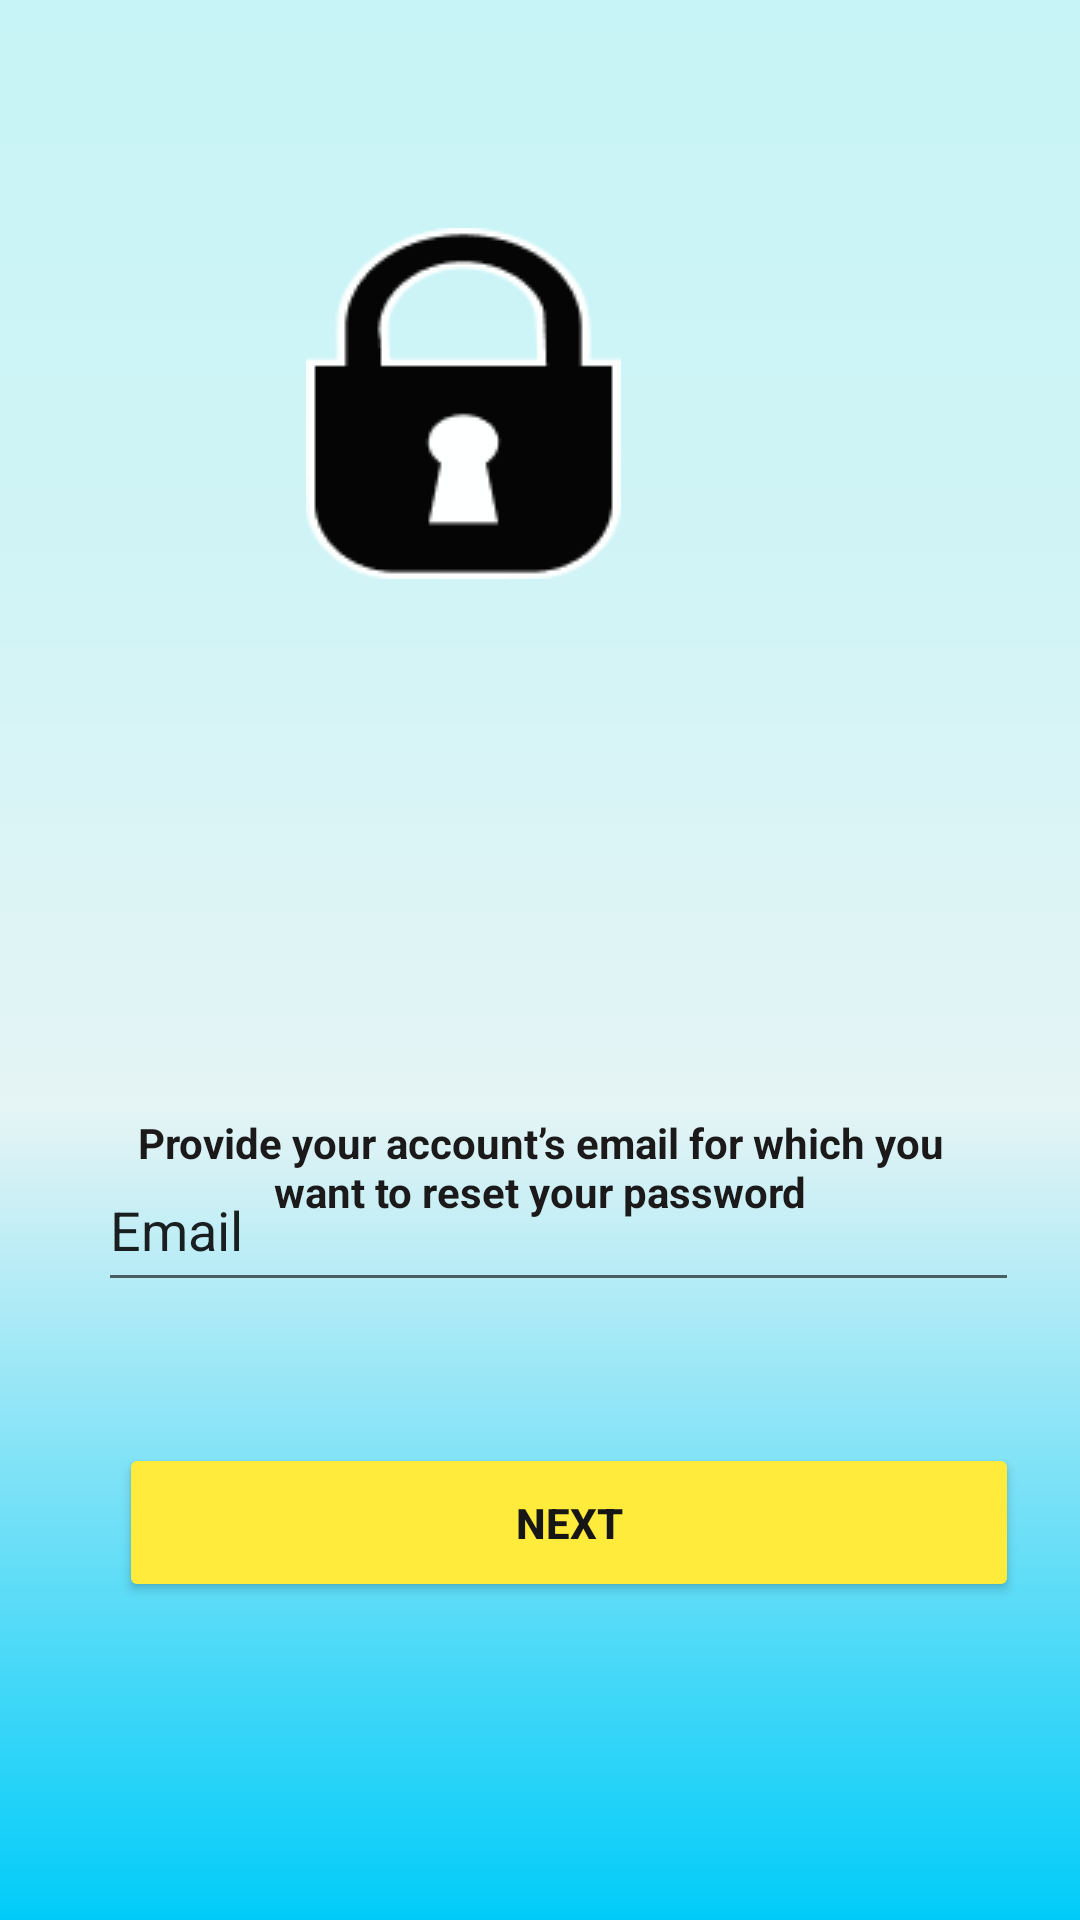

Screen size 1080px×1920px. Icon name, then its center in pixels as (x,y):
lock: (463,403)
